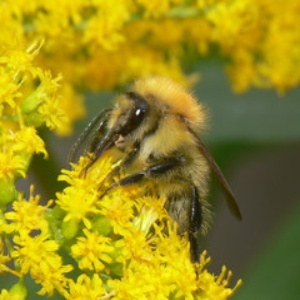bee: (62, 73, 245, 259)
